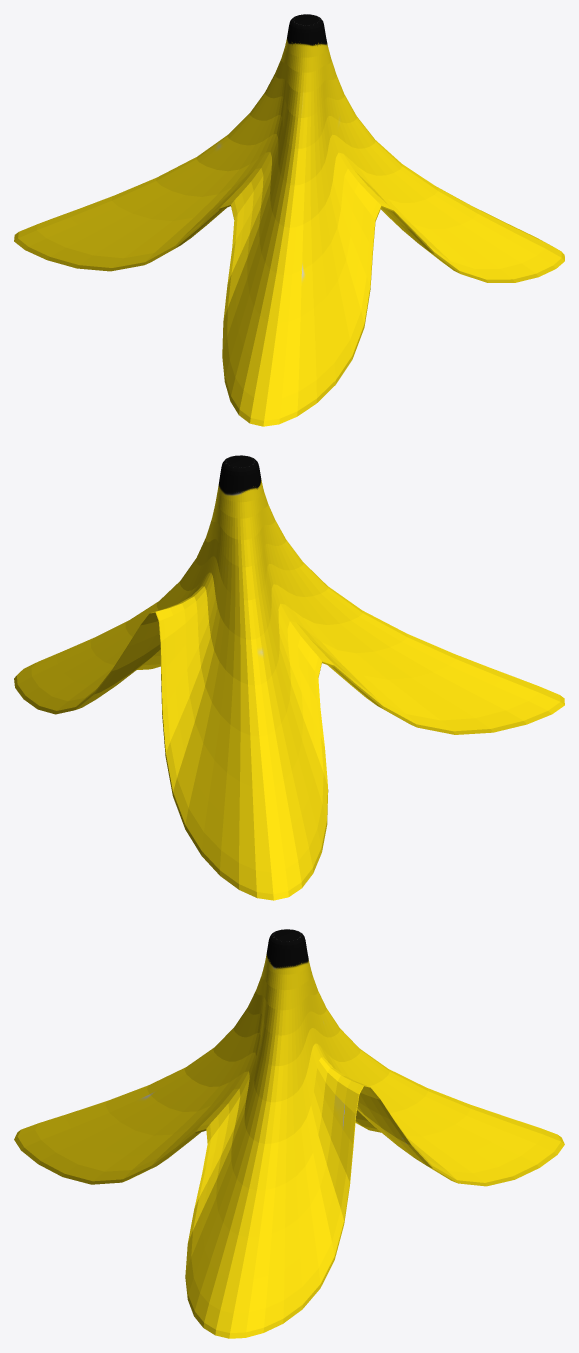
File: banana.gltf
3 renders of one model, top to bottom at view 1: azimuth 30°, elevation 25°; view 2: azimuth 150°, elevation 25°; view 3: azimuth 270°, elevation 25°, orthographic. The views are drawn at different scales.
Parts seen in each view (by area): view 1: Cone.001; view 2: Cone.001; view 3: Cone.001.
Boxes of the visible parts, bbox=[...] form: Cone.001: bbox=[14, 14, 564, 426]; Cone.001: bbox=[14, 455, 564, 900]; Cone.001: bbox=[14, 929, 564, 1338].
Size of the model in its own units: 3.06 by 1.95 by 3.4.
Materials: 1 (1 with a texture image).
